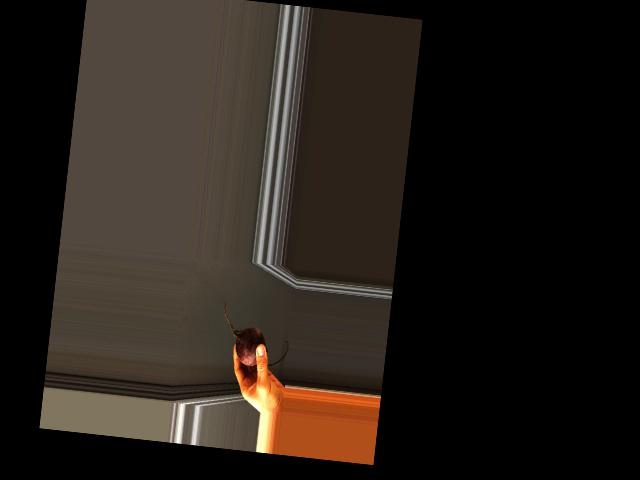beet: (218, 300, 293, 369)
